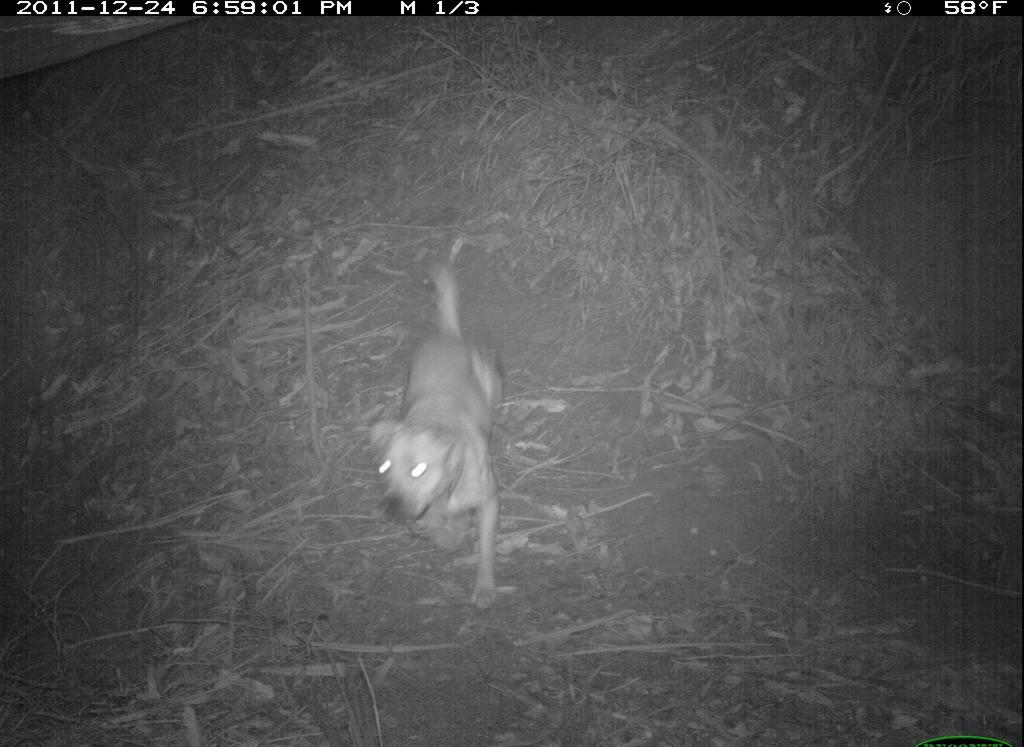dog: (361, 254, 533, 626)
